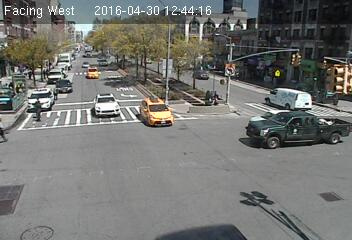pos: (30, 97, 46, 119), (27, 69, 35, 80), (44, 68, 52, 79)
